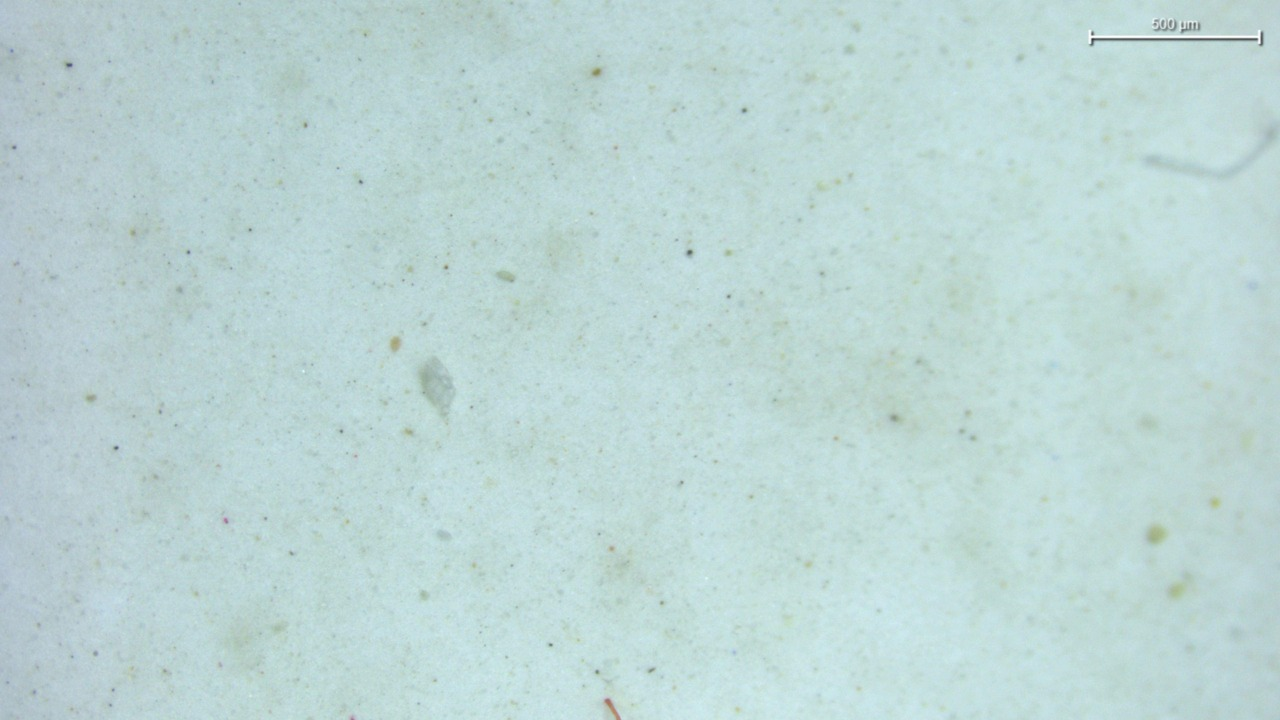microplastic_fragment: (419, 357, 455, 416)
